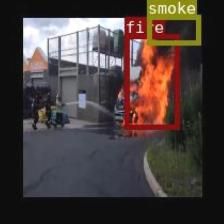fire: (124, 32, 178, 128)
smoke: (146, 14, 200, 44)
